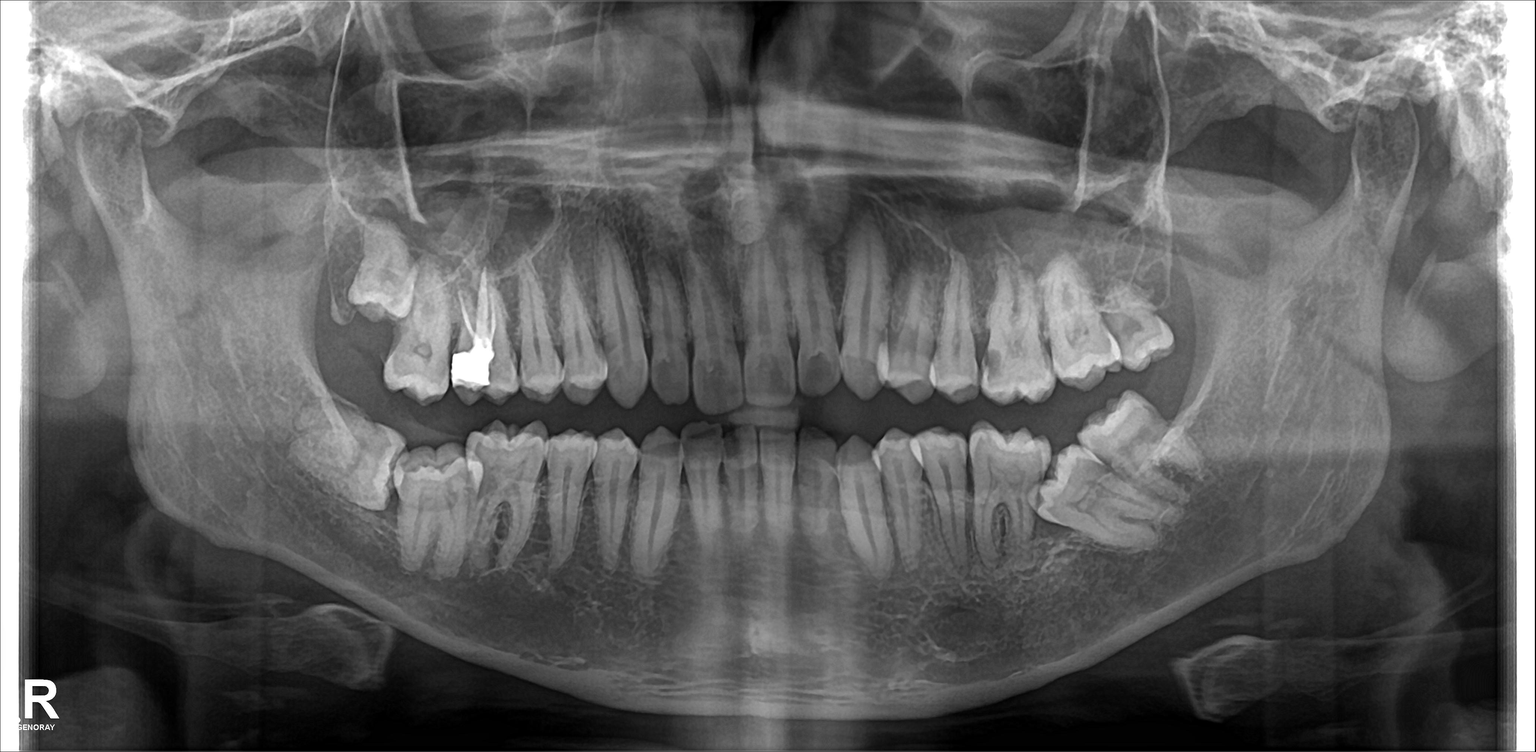Endodontically Treated Tooth: (456, 270, 499, 395)
Impacted Third Molar: (1089, 396, 1181, 487), (1044, 460, 1141, 542), (302, 402, 389, 492)
